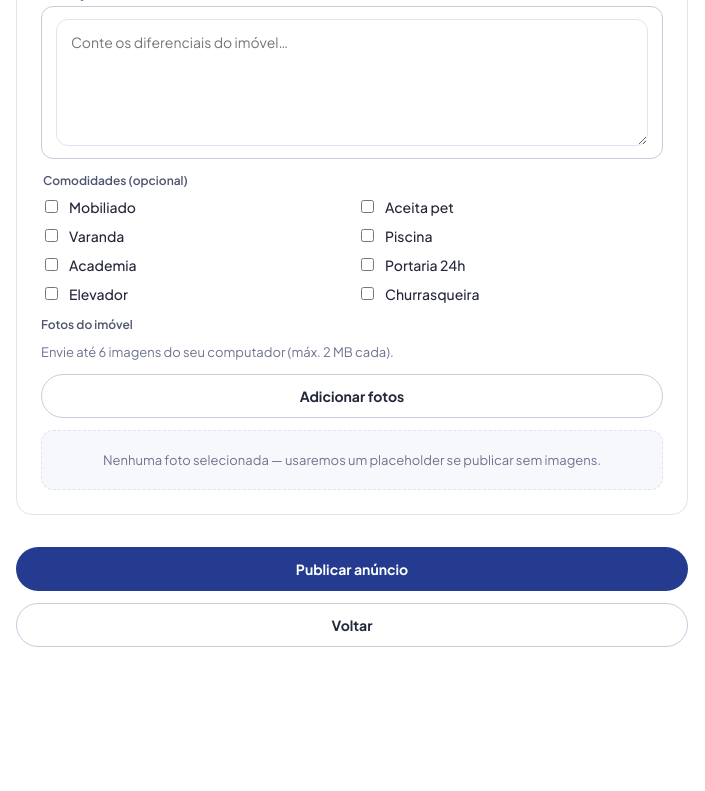
Scenario: NewListingPage › validates required fields before submit
The image size is (705, 791).
(page scrolled)
Click the button "Publicar anúncio": x=352, y=569 [16,547,688,591]
(page scrolled)
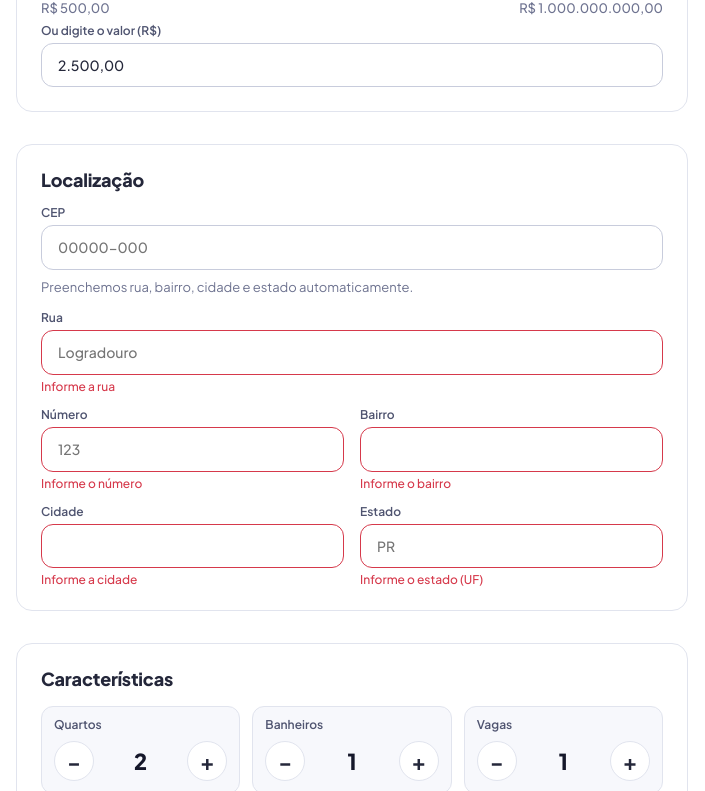
Expected: the text "Informe a rua" is shown, [41,379,115,394]
